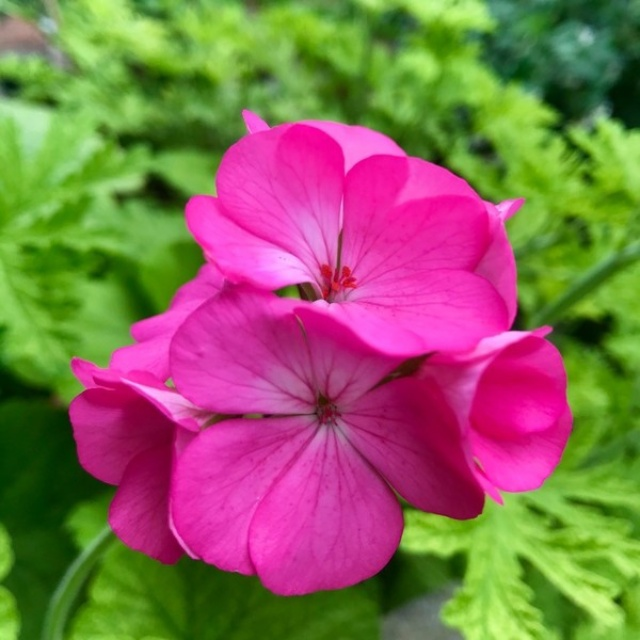obstacle: (110, 128, 579, 556)
